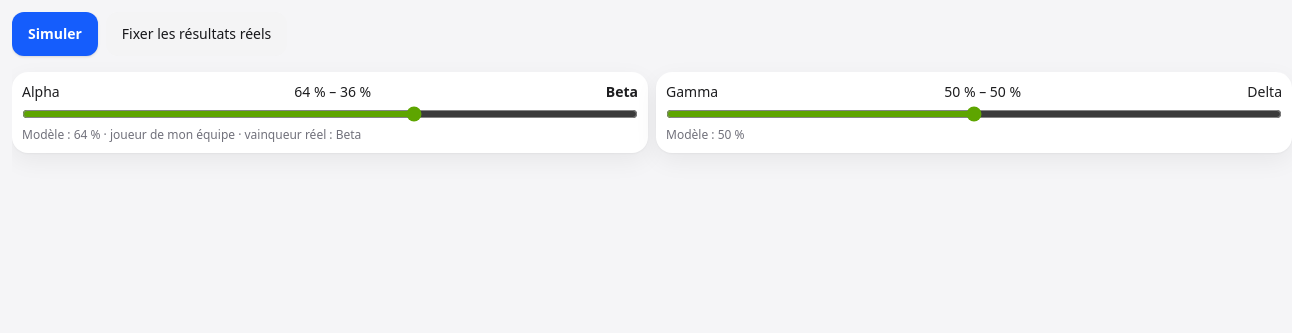
ScenarioFantasy › affiche le score projeté modèle → scénario et l’écart
The width and height of the screenshot is (1292, 333).
Click the button "Simuler".
click(55, 34)  # box [12,12,98,56]
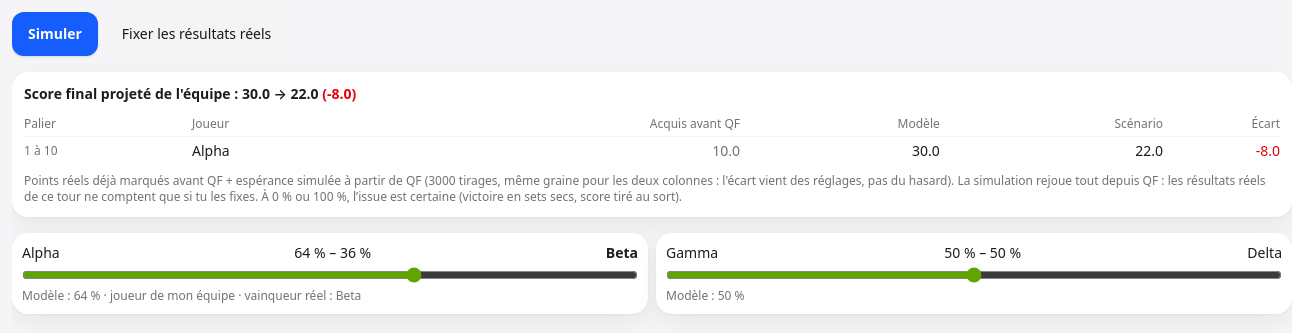
Check: the text "(-8.0)" is shown, box [322,84,356,103]
Check: the text "30.0" is shown 2 times, box [242,84,270,103]; [752,136,952,165]
Check: the text "22.0" is shown 2 times, box [291,84,319,103]; [952,136,1175,165]
